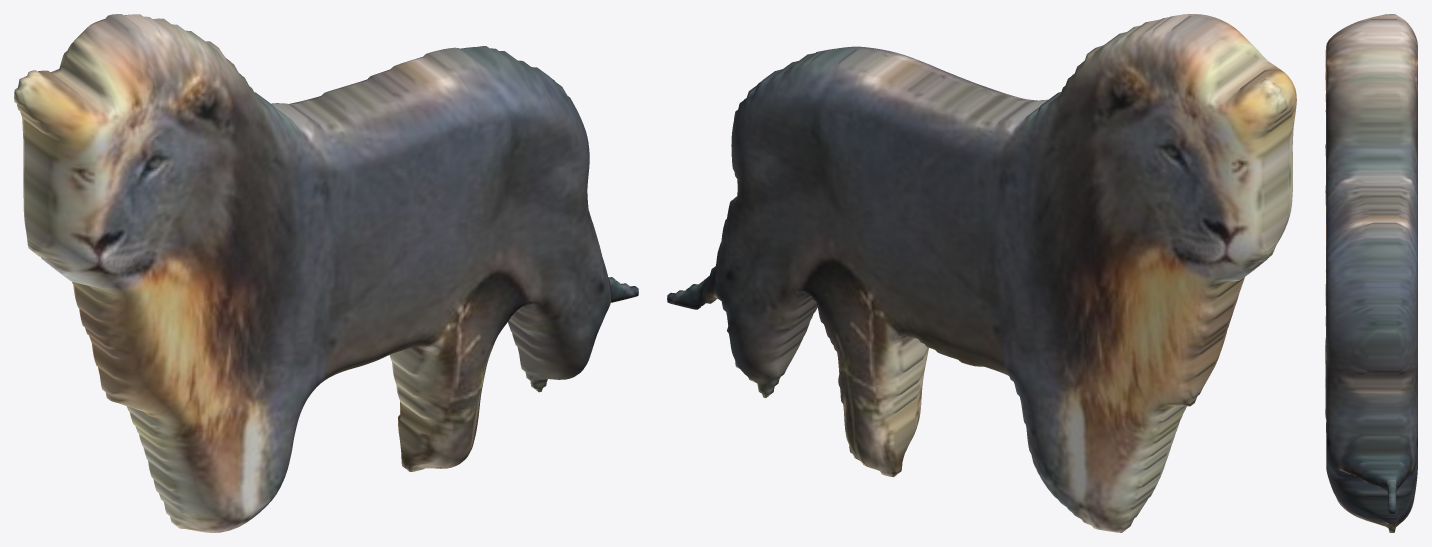
The model's file is lion_236419.glb.
3 views of the same model, side by side, from view 1: azimuth 30°, elevation 25°; view 2: azimuth 150°, elevation 25°; view 3: azimuth 270°, elevation 25° (orthographic). The views are drawn at different scales.
Visible parts, largest first — view 1: lion_236419; view 2: lion_236419; view 3: lion_236419.
Boxes of the visible parts, bbox=[...] form: lion_236419: bbox=[14, 14, 638, 532]; lion_236419: bbox=[667, 14, 1296, 532]; lion_236419: bbox=[1325, 14, 1417, 532].
Bounding box in the file's own units: 1.92 × 1.55 × 0.3315.
1 material, 1 textured.
